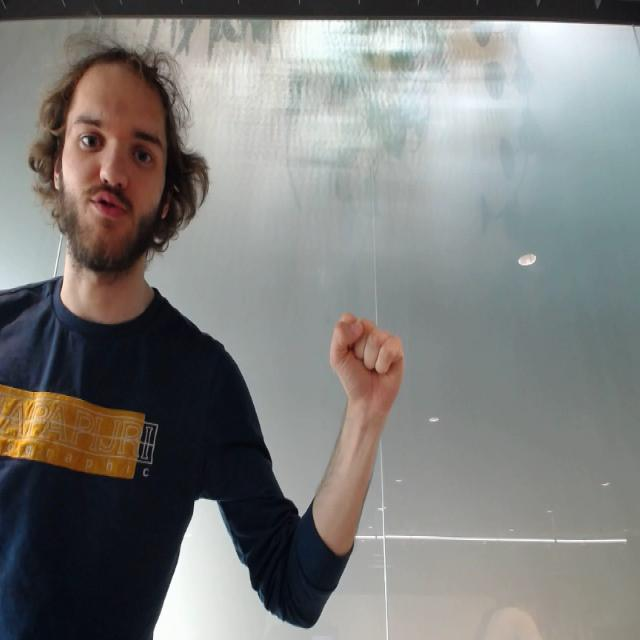stop: (325, 307, 408, 422)
